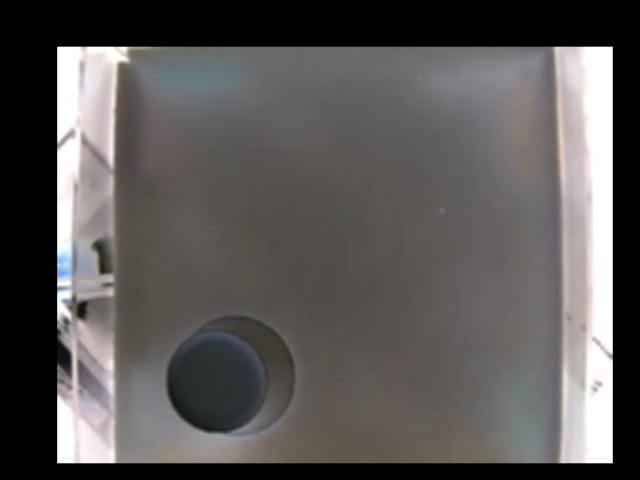Cup: (163, 314, 298, 437)
